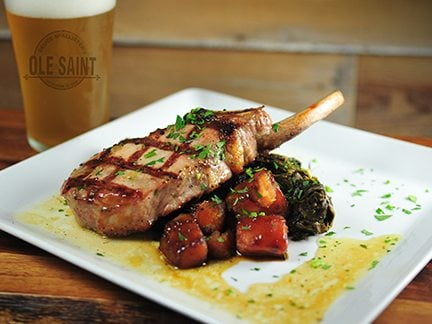pizza: (1, 1, 118, 152)
